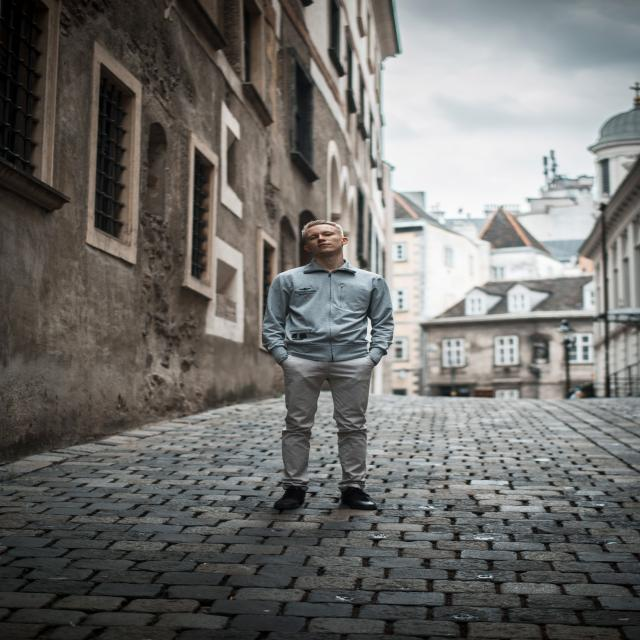adult: (254, 214, 395, 520)
